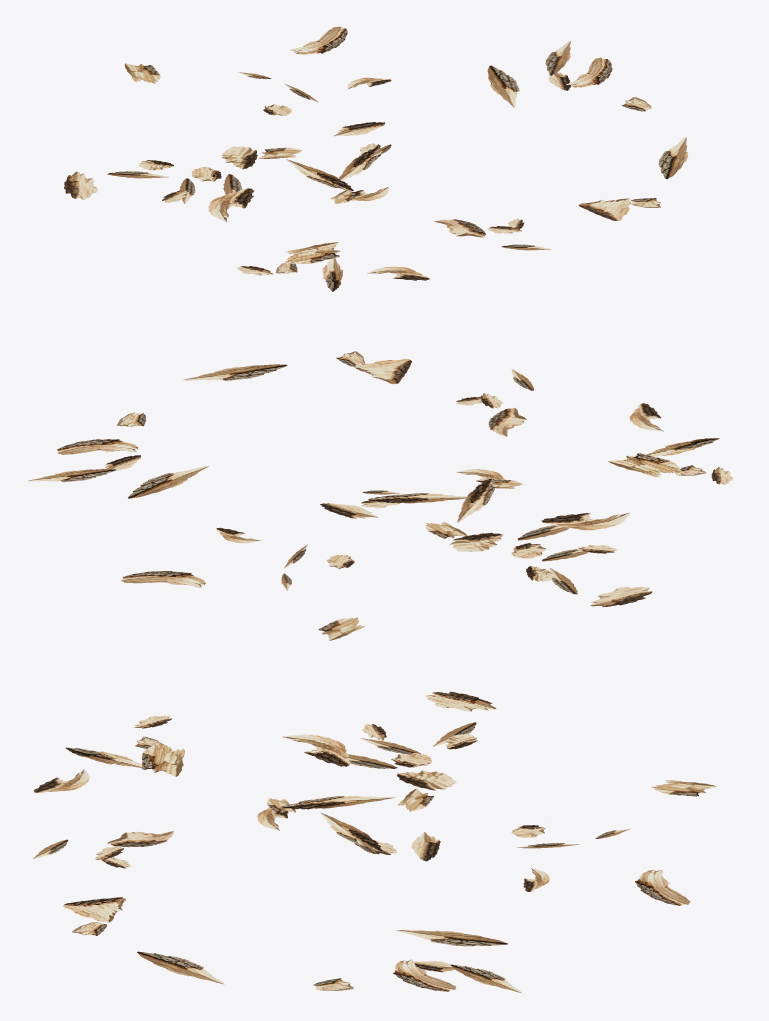
The model's file is chips_scatter.glb.
The picture shows the model from 3 angles, top to bottom: view 1: azimuth 30°, elevation 25°; view 2: azimuth 150°, elevation 25°; view 3: azimuth 270°, elevation 25°; orthographic projection. The views are drawn at different scales.
Parts seen in each view (by area): view 1: chips_scatter; view 2: chips_scatter; view 3: chips_scatter.
Boxes of the visible parts, x1=… form: chips_scatter: x1=64, y1=26, x2=687, y2=291; chips_scatter: x1=28, y1=351, x2=732, y2=640; chips_scatter: x1=33, y1=691, x2=716, y2=992.
Size of the model in its own units: 1.72 by 0.0156 by 1.62.
Materials: 1 (1 with a texture image).
